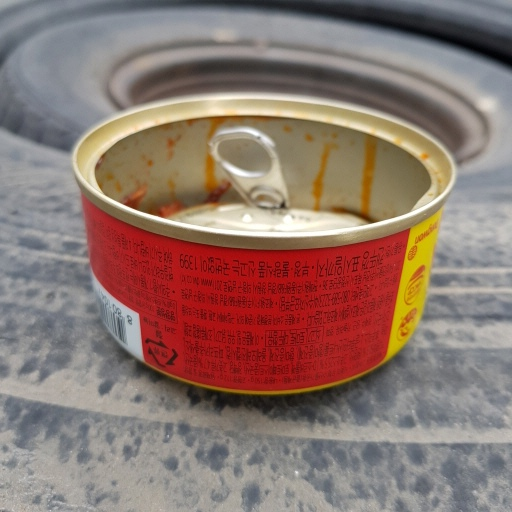Metal_1: (71, 97, 457, 395)
